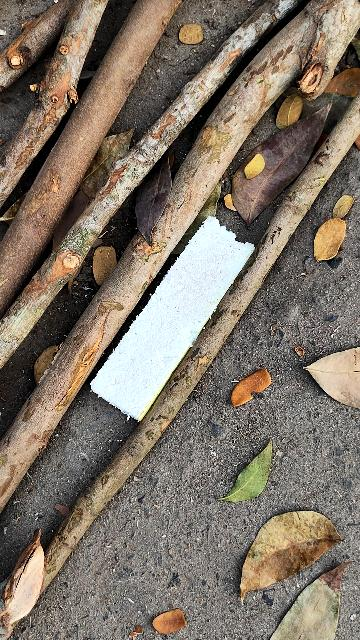cocksheet: (80, 210, 268, 431)
